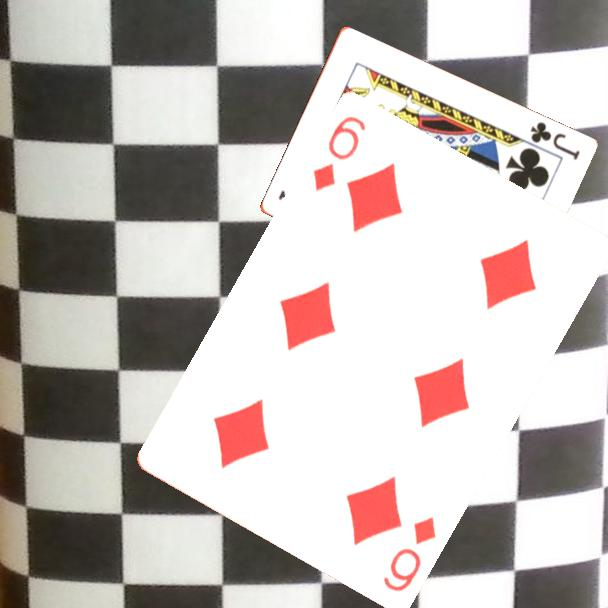c11: (526, 118, 583, 163)
d06: (379, 514, 440, 596), (309, 113, 369, 196)
